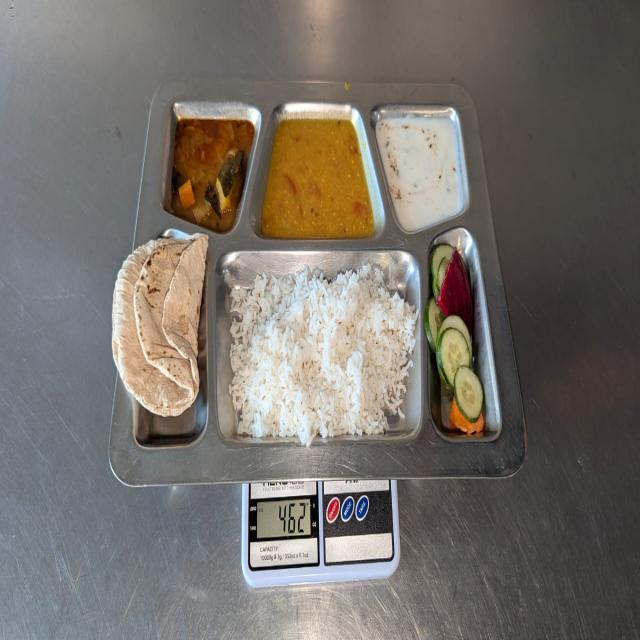Chapati: (110, 238, 213, 419)
Dal: (262, 110, 377, 242)
Raita: (377, 110, 473, 237)
Salad: (426, 238, 491, 445)
Sambhar: (167, 110, 258, 236)
White Rice: (227, 260, 420, 450)
